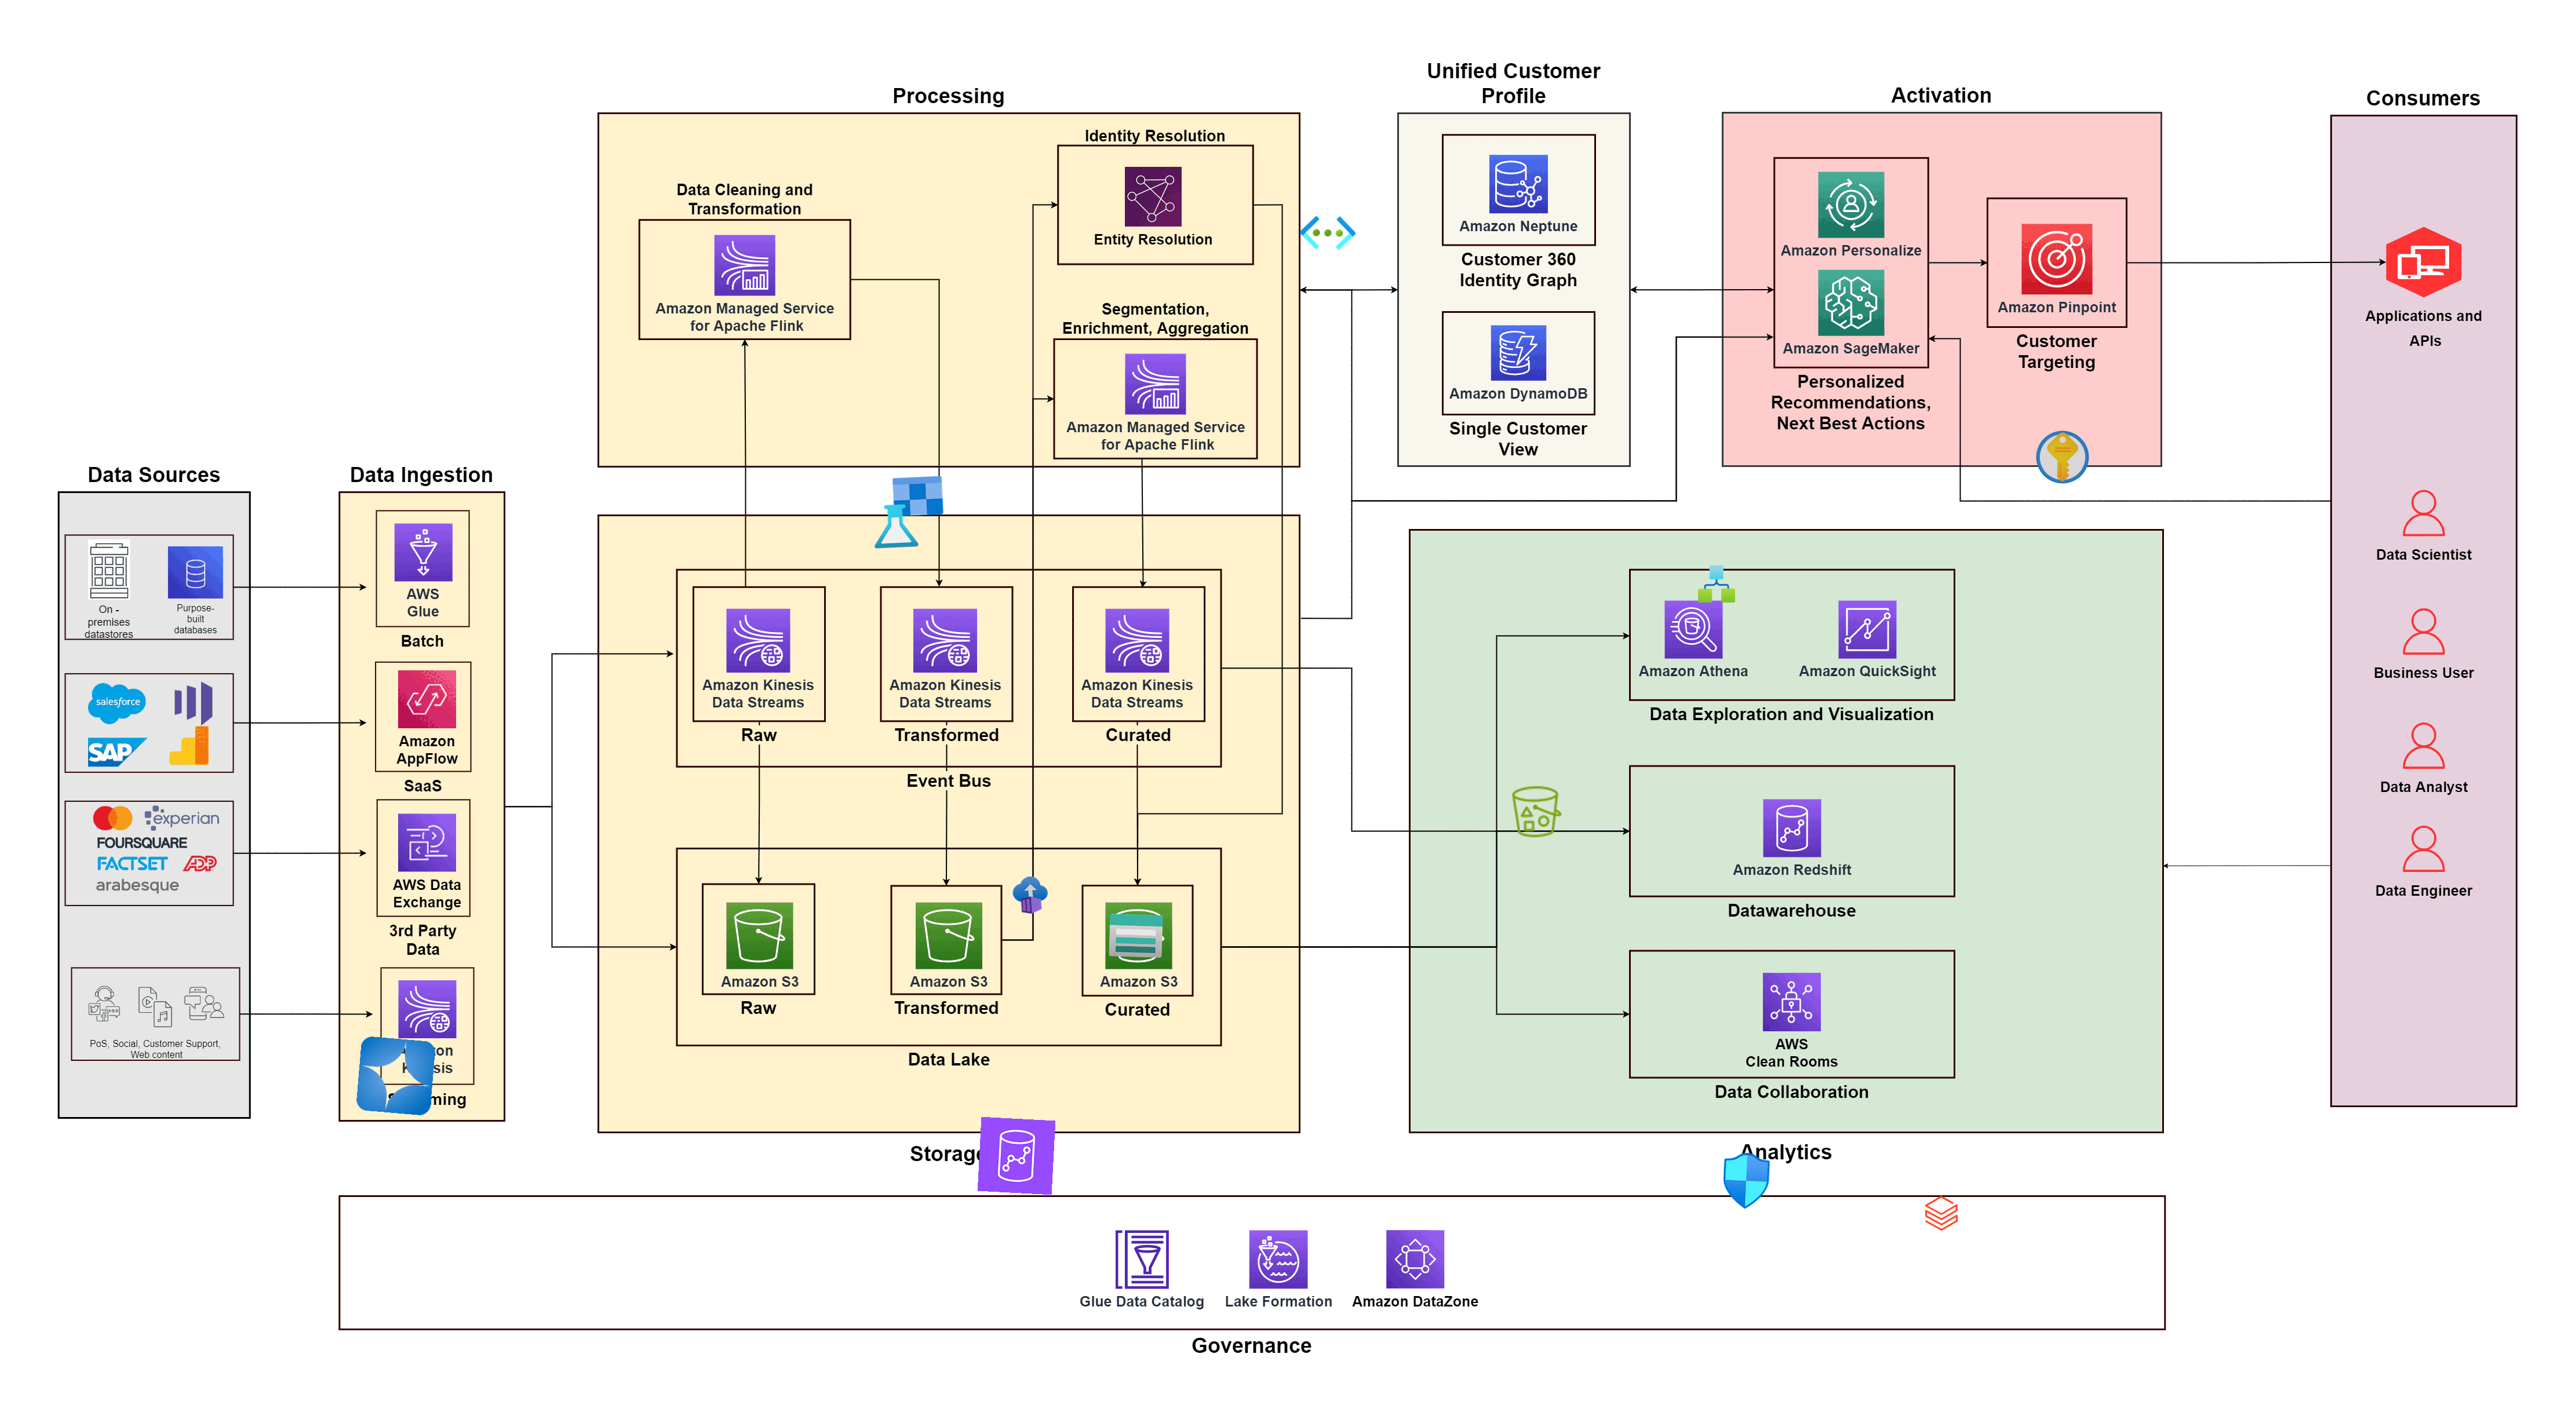aws_amazon_redshift: (977, 1116, 1055, 1195)
aws_simple_storage_service_bucket_with_objects: (1509, 783, 1564, 841)
azure_container_instances: (1012, 875, 1050, 916)
azure_databricks: (1922, 1195, 1960, 1233)
azure_key_vaults: (2034, 429, 2091, 485)
azure_logic_apps: (1697, 565, 1735, 603)
azure_machine_learning_studio_workspaces: (869, 473, 947, 551)
azure_network_security_groups: (1716, 1151, 1775, 1210)
azure_openai: (356, 1036, 436, 1116)
azure_storage_accounts: (1107, 907, 1165, 964)
azure_virtual_networks: (1299, 204, 1357, 262)
